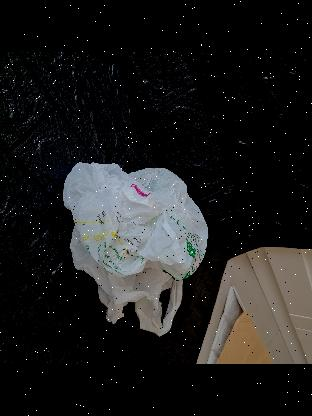Others: (58, 160, 206, 340)
